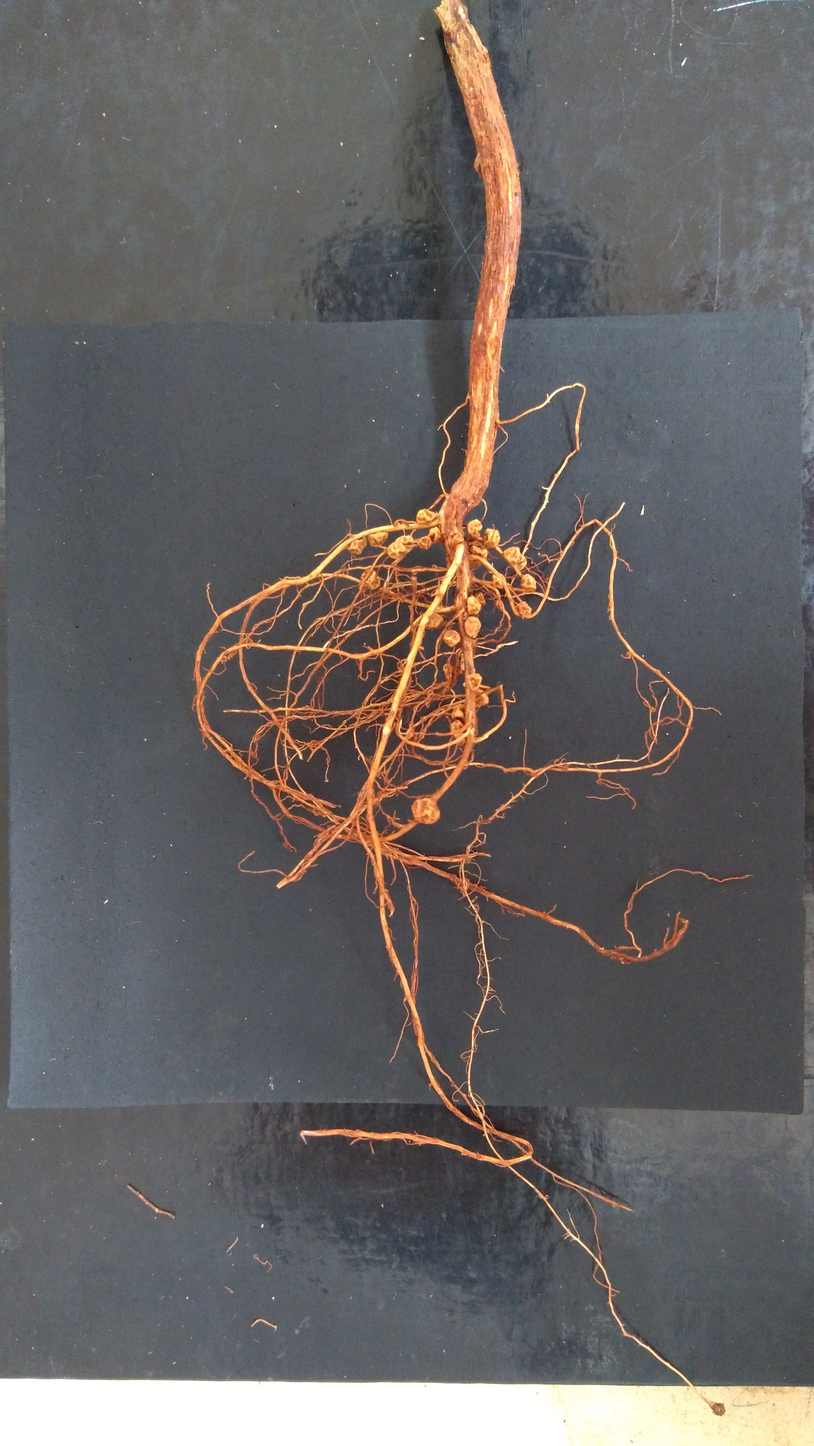nodule: (411, 797, 440, 824), (503, 547, 527, 572), (468, 537, 488, 564), (450, 720, 467, 746), (346, 534, 367, 555), (361, 569, 380, 590), (464, 616, 481, 638), (395, 535, 413, 553), (387, 542, 406, 559), (484, 528, 500, 548), (367, 532, 388, 547), (426, 612, 444, 629), (520, 574, 536, 593), (443, 630, 460, 647), (467, 519, 482, 538), (416, 509, 436, 523), (448, 530, 463, 548), (467, 596, 481, 615), (514, 602, 531, 617), (468, 673, 482, 691), (451, 704, 465, 721), (475, 689, 488, 707), (492, 573, 506, 589), (417, 536, 431, 550), (428, 527, 441, 541), (443, 664, 454, 679), (713, 1403, 725, 1416), (475, 592, 486, 606), (460, 654, 465, 671), (506, 583, 512, 592), (412, 569, 419, 575), (626, 652, 632, 657), (432, 565, 437, 569)
